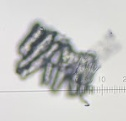microplastic: (15, 22, 101, 106)
